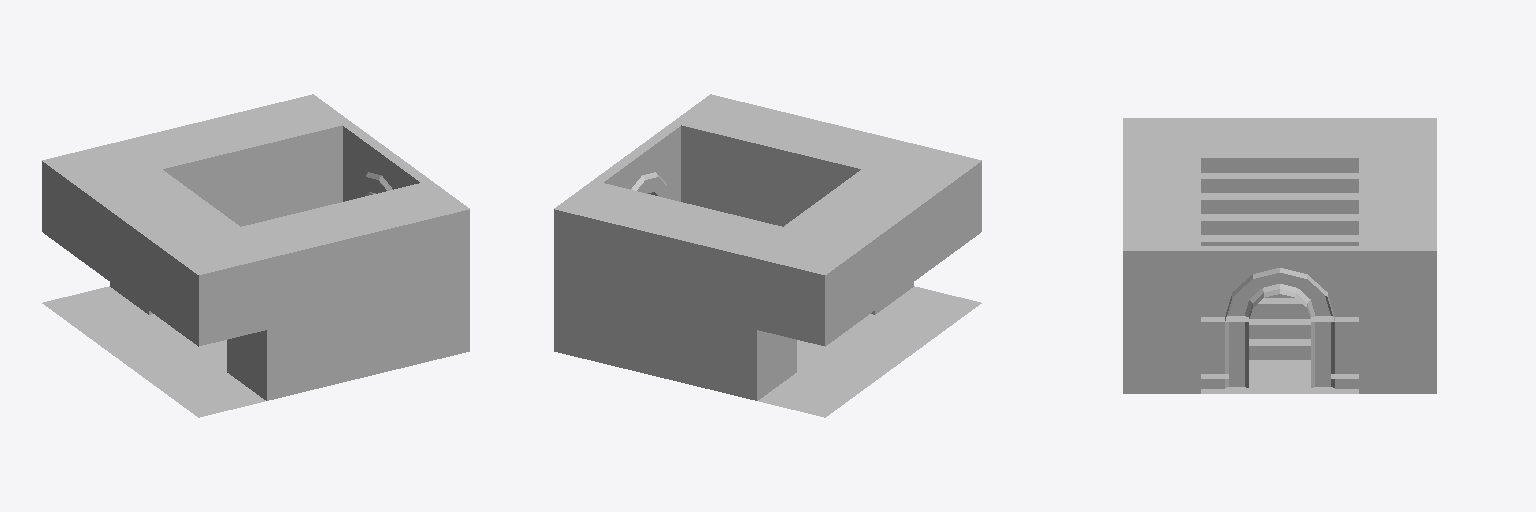
Rendered from staircaseBottom.obj.
3 views of the same model, side by side, from view 1: azimuth 30°, elevation 25°; view 2: azimuth 150°, elevation 25°; view 3: azimuth 270°, elevation 25° (orthographic).
Parts seen in each view (by area): view 1: struct_block_normal_59, struct_block_normal_60, struct_block_normal_58, struct_floor_main_half_0, struct_wall_big_door_upper_11, struct_large_straight_steps_56; view 2: struct_block_normal_58, struct_block_normal_60, struct_block_normal_59, struct_floor_main_half_0, struct_wall_big_door_upper_11, struct_large_straight_steps_56; view 3: struct_block_normal_58, struct_block_normal_59, struct_large_straight_steps_56, struct_block_normal_60, struct_wall_big_door_upper_11, struct_wall_big_door_lower_4, struct_large_straight_steps_55, struct_floor_main_half_0.
Part boxes in pixels (x1,y1,x2,y2): struct_block_normal_59: (227, 181, 469, 400); struct_block_normal_60: (42, 144, 266, 346); struct_block_normal_58: (110, 94, 351, 314); struct_floor_main_half_0: (42, 286, 265, 417); struct_wall_big_door_upper_11: (343, 123, 430, 200); struct_large_straight_steps_56: (150, 169, 239, 229); struct_block_normal_58: (554, 181, 796, 400); struct_block_normal_60: (757, 144, 981, 346); struct_block_normal_59: (672, 94, 913, 314); struct_floor_main_half_0: (758, 286, 981, 417); struct_wall_big_door_upper_11: (593, 123, 680, 200); struct_large_straight_steps_56: (784, 169, 873, 229); struct_block_normal_58: (1359, 152, 1436, 393); struct_block_normal_59: (1123, 152, 1200, 393); struct_large_straight_steps_56: (1201, 152, 1358, 245); struct_block_normal_60: (1123, 118, 1436, 151); struct_wall_big_door_upper_11: (1201, 246, 1358, 321); struct_wall_big_door_lower_4: (1201, 316, 1358, 393); struct_large_straight_steps_55: (1249, 294, 1310, 359); struct_floor_main_half_0: (1201, 360, 1358, 393).
Bounding box in the file's own units: 4 × 2 × 4.